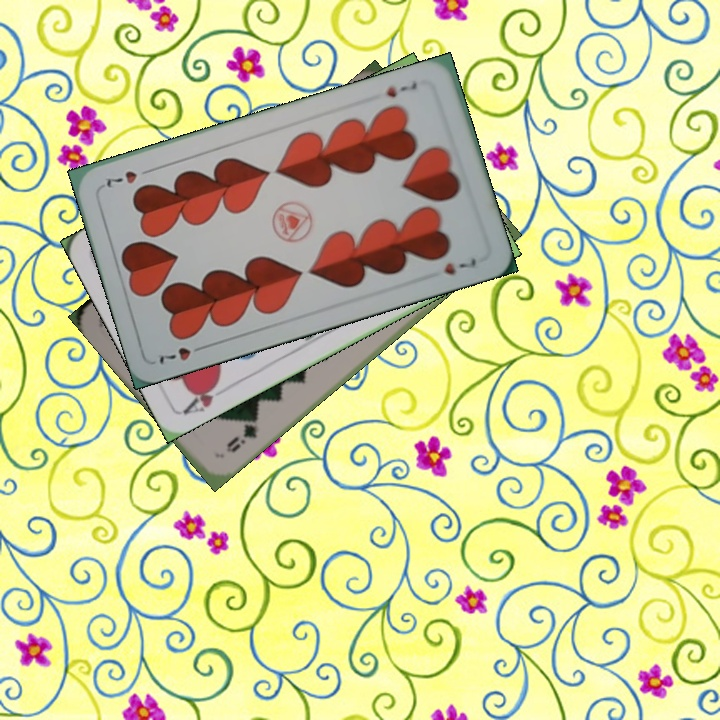G9: (222, 411, 261, 456)
H7: (154, 341, 210, 366), (382, 78, 420, 100)
HA: (179, 375, 234, 417)
